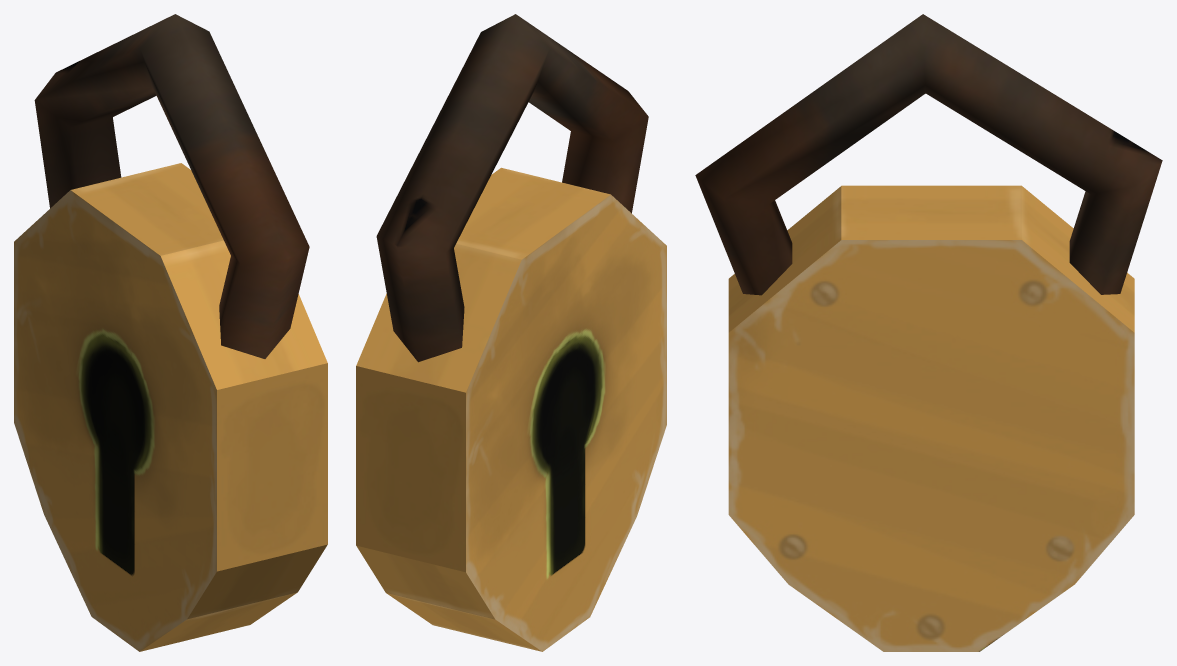
Rendered from Lock.FBX.
3 renders of one model, left to right at view 1: azimuth 30°, elevation 25°; view 2: azimuth 150°, elevation 25°; view 3: azimuth 270°, elevation 25°, orthographic.
Parts seen in each view (by area): view 1: slot_main, slot_ring; view 2: slot_main, slot_ring; view 3: slot_main, slot_ring.
Part boxes in pixels (x1=…): slot_main: x1=14, y1=163, x2=327, y2=651; slot_ring: x1=34, y1=14, x2=309, y2=358; slot_main: x1=356, y1=167, x2=666, y2=651; slot_ring: x1=376, y1=14, x2=648, y2=362; slot_main: x1=728, y1=185, x2=1134, y2=651; slot_ring: x1=695, y1=14, x2=1162, y2=295.
Bounding box in the file's own units: 3.96 × 20.81 × 14.43.
